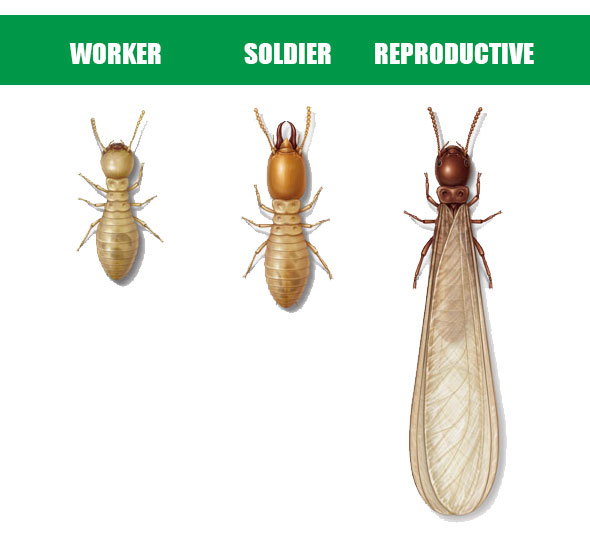flying termite: (400, 92, 520, 533)
